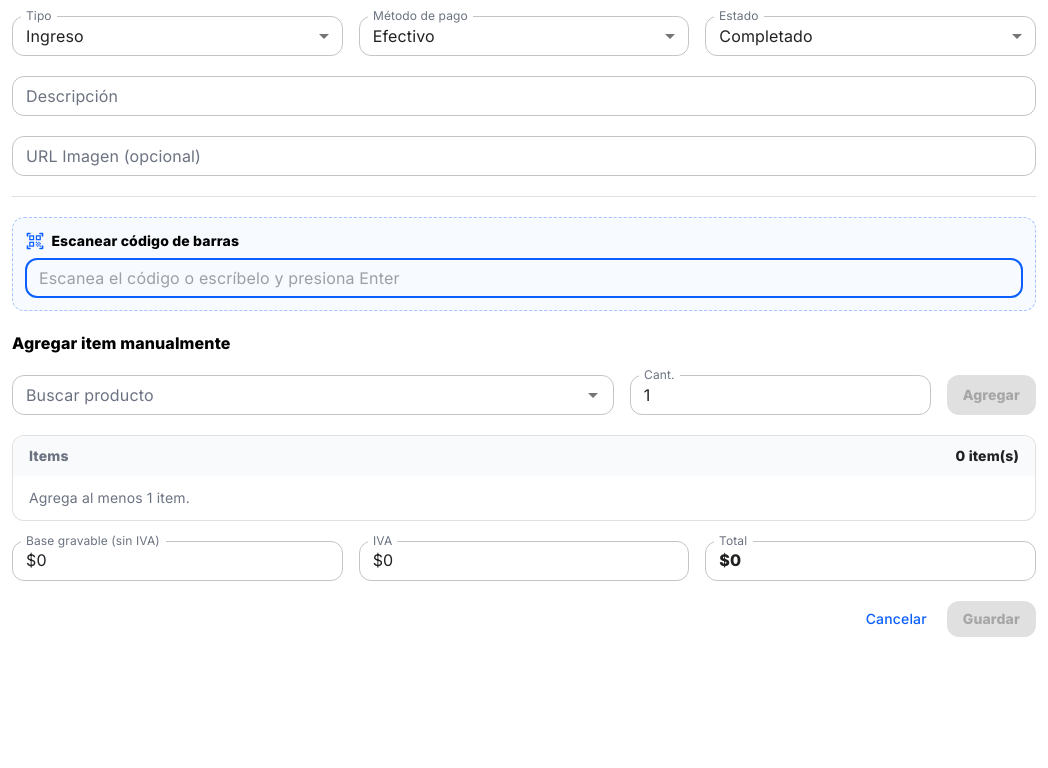
it: RegisterForm — type selector › only offers Ingreso and Egreso, never Compra
The width and height of the screenshot is (1048, 768).
Press the mouse on the dropdown named "Tipo" at (55, 36), box [26,26,84,46]
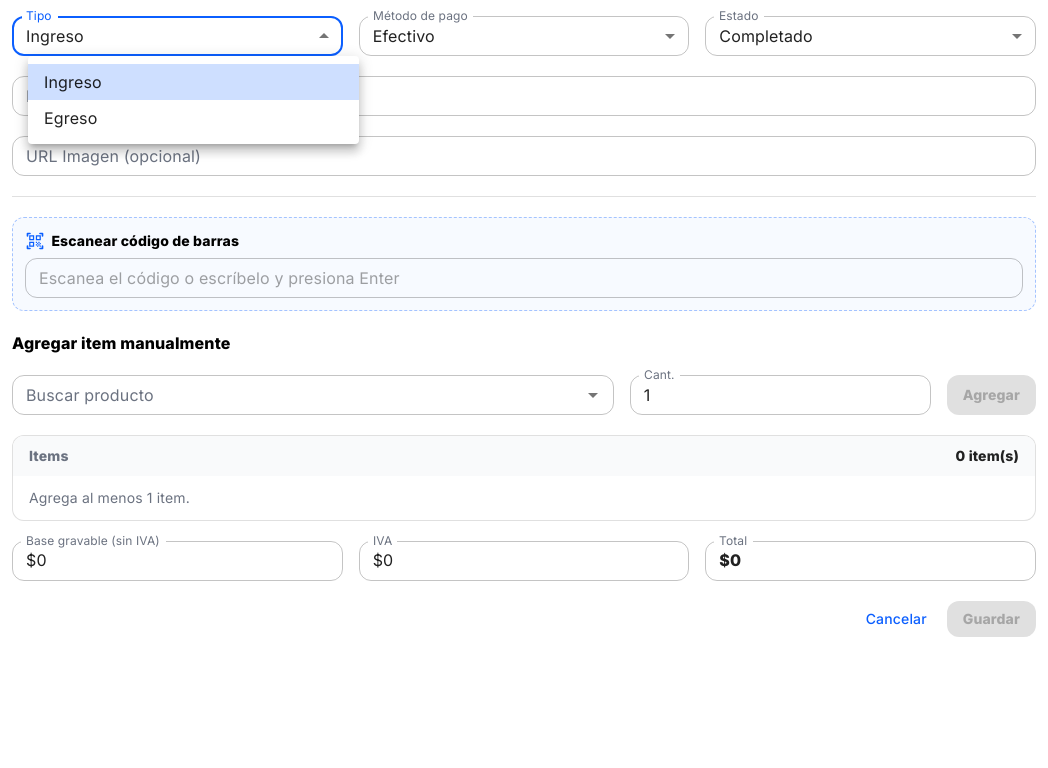
Result: the option "Ingreso" is shown at [28,64,359,100]
Result: the option "Egreso" is shown at [44,108,98,128]
